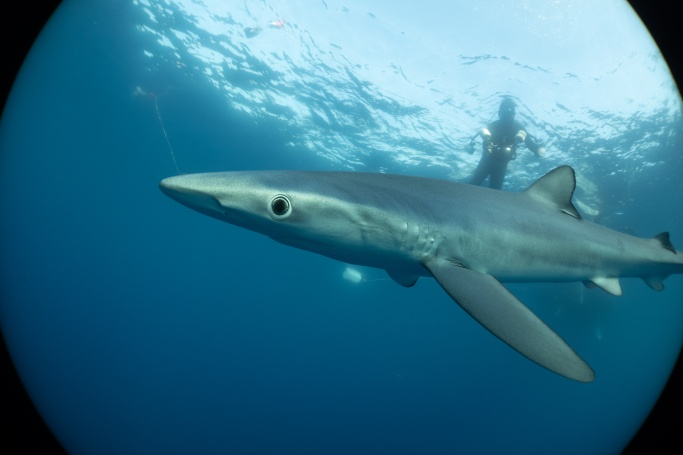Azul: (142, 121, 683, 397)
